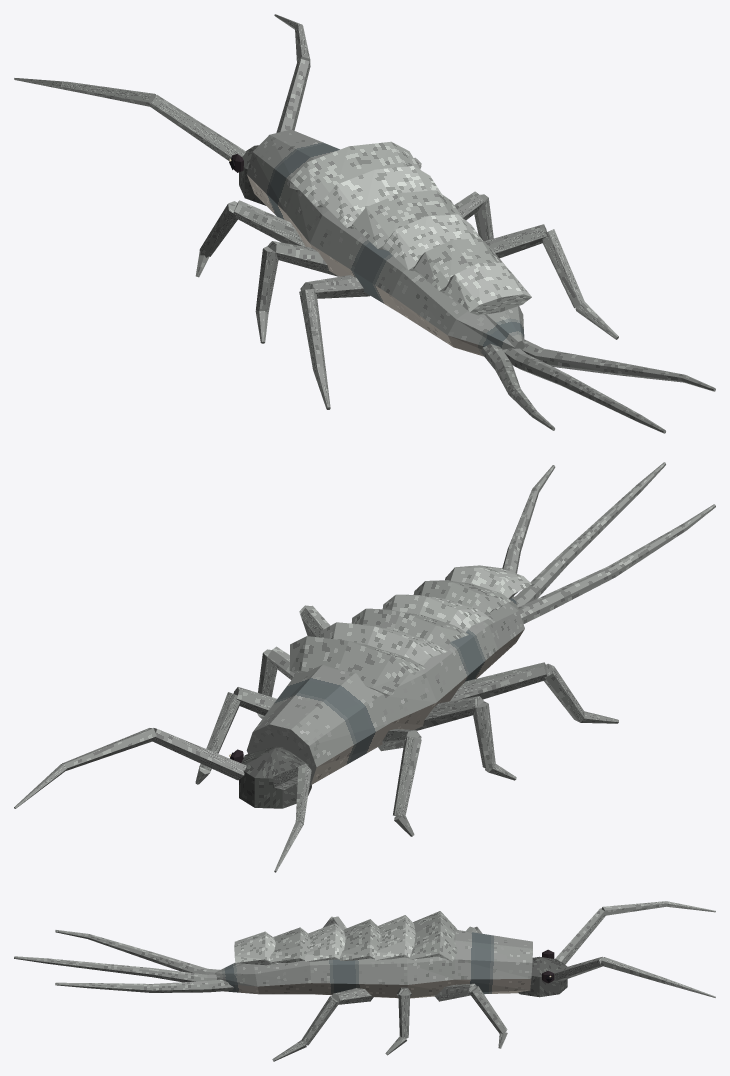
Rendered from mon_silverfish.glb.
3 views of the same model, one above another, from view 1: azimuth 30°, elevation 25°; view 2: azimuth 150°, elevation 25°; view 3: azimuth 270°, elevation 25° (orthographic). The views are drawn at different scales.
Parts seen in each view (by area): view 1: closed_body; view 2: closed_body; view 3: closed_body.
Part boxes in pixels (box(x1,y1,x2,y2)): closed_body: box(14, 14, 715, 433); closed_body: box(14, 462, 715, 872); closed_body: box(14, 901, 715, 1061).
Size of the model in its own units: 1.1 by 0.4957 by 3.39.
1 material, 1 textured.
